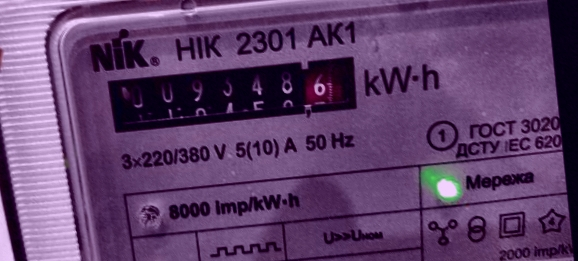0: (126, 84, 144, 111), (156, 78, 173, 105)
3: (217, 73, 234, 99)
4: (244, 68, 265, 99)
6: (307, 69, 327, 100)
8: (276, 68, 294, 97)
9: (187, 78, 204, 106)
screen: (87, 41, 371, 147)
